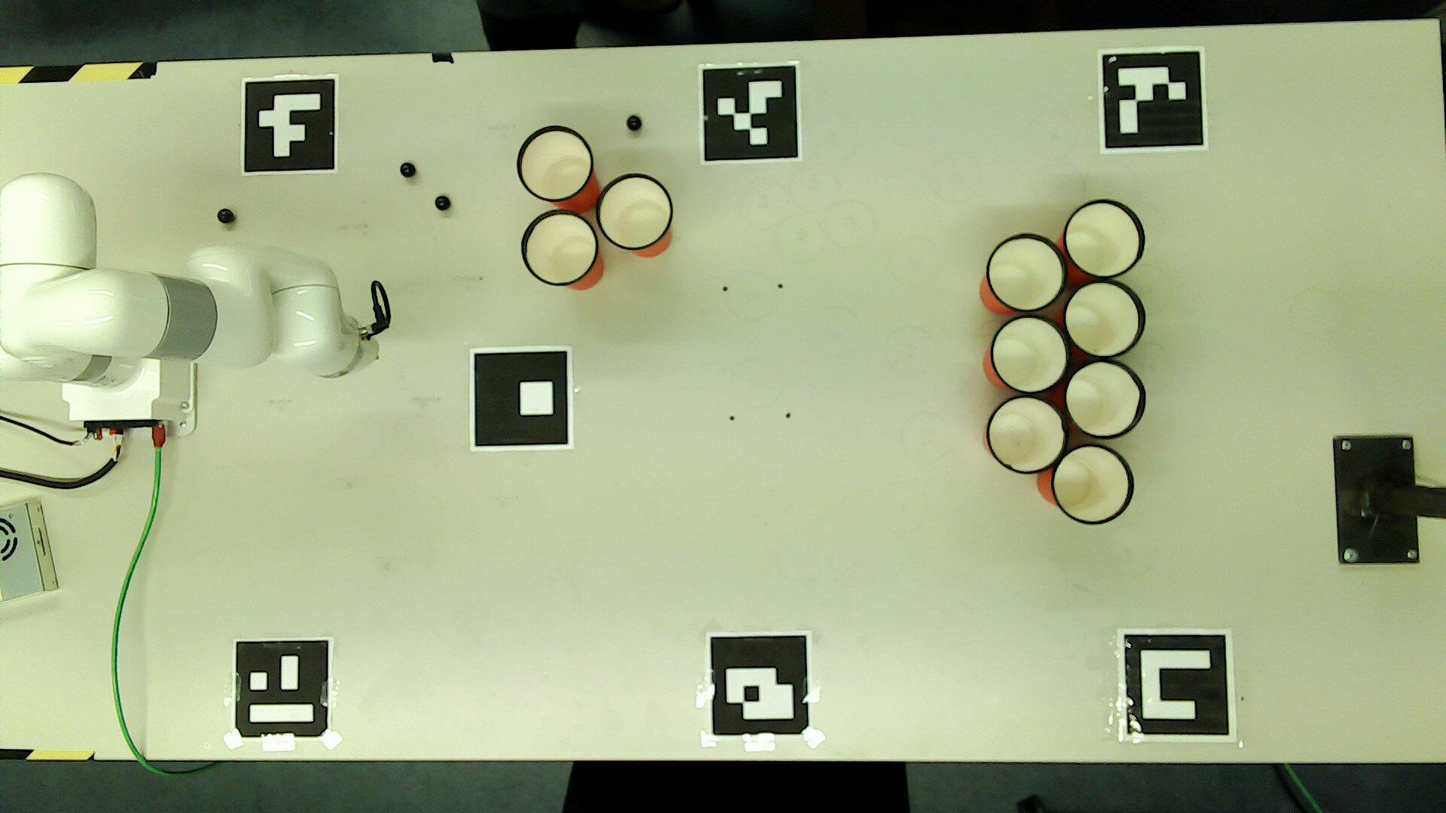ball: (217, 209, 233, 223), (401, 163, 414, 177), (627, 117, 641, 130), (436, 197, 449, 210)
cup: (1053, 445, 1132, 524), (988, 397, 1067, 473), (1065, 362, 1143, 438), (1064, 282, 1143, 357), (1065, 200, 1141, 277), (989, 235, 1065, 311), (992, 317, 1067, 392), (523, 212, 597, 286), (598, 176, 671, 249), (518, 128, 592, 200)
